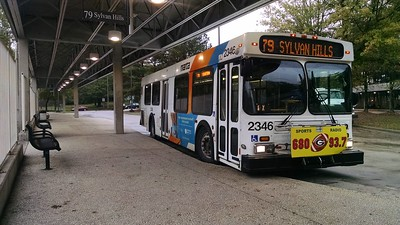bus: (139, 31, 364, 172)
